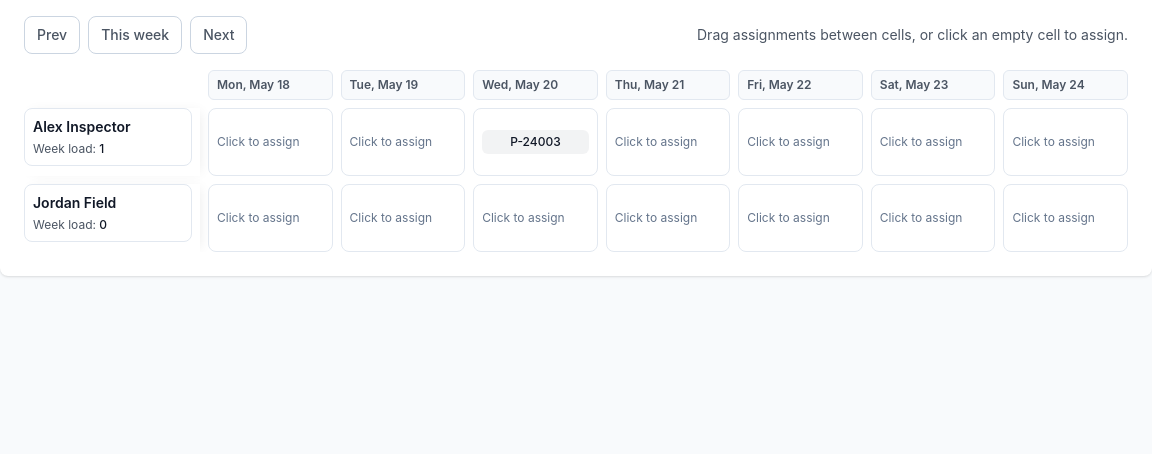
AssignmentGrid › shows discipline mismatch when assigning Electrical permit to Plumbing-only SCO
Click the button with test id "assignment-cell-insp-jordan-": (270, 218) [208, 184, 333, 252]
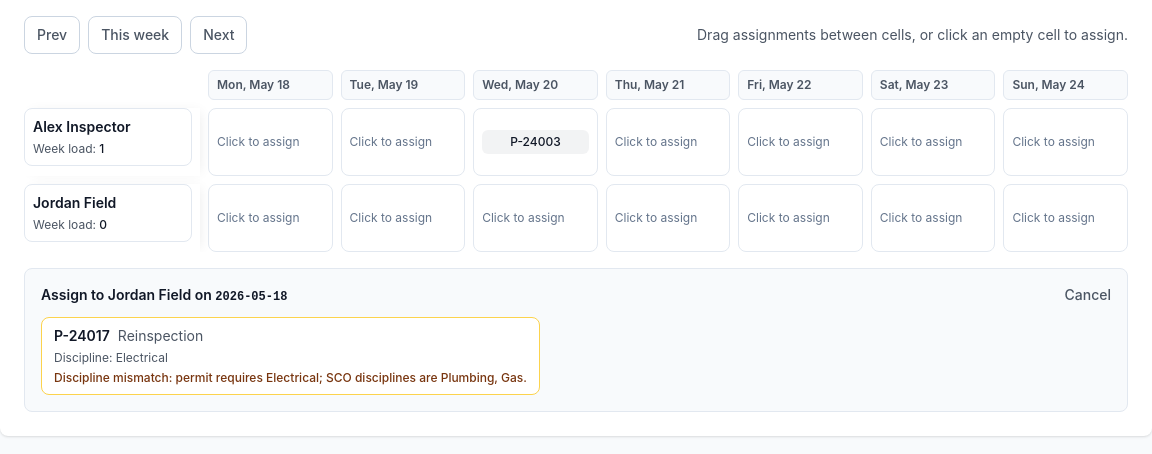
Expected: the text with test id "assignment-grid-discipline-mismatch-asg-901" is shown, [54, 370, 527, 386]
